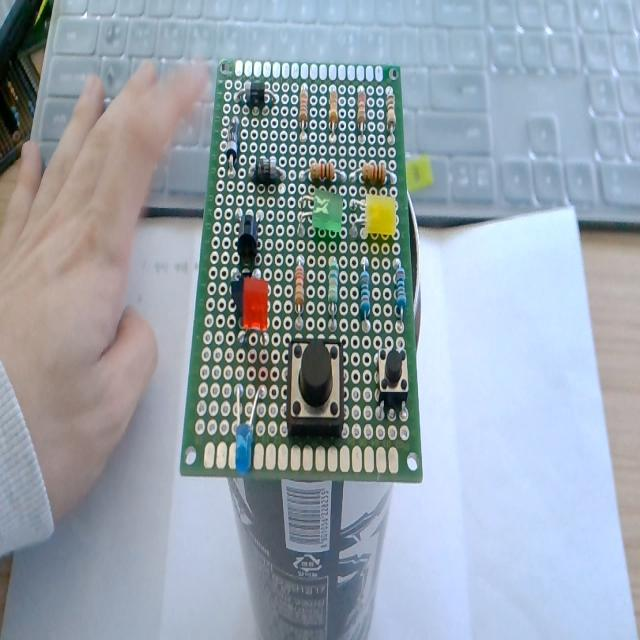diode: (232, 75, 278, 108), (246, 157, 285, 185), (222, 114, 239, 174)
led: (234, 379, 267, 475), (239, 265, 272, 356), (348, 192, 402, 244), (295, 189, 343, 240)
resistor: (293, 162, 352, 187), (349, 160, 402, 187), (390, 256, 409, 330), (324, 249, 340, 331), (294, 77, 312, 144), (294, 244, 308, 328), (358, 253, 372, 333), (326, 79, 340, 145), (383, 87, 398, 147), (356, 84, 368, 147)
switch: (284, 333, 352, 446), (372, 341, 414, 410)
transistor: (229, 204, 262, 261)
